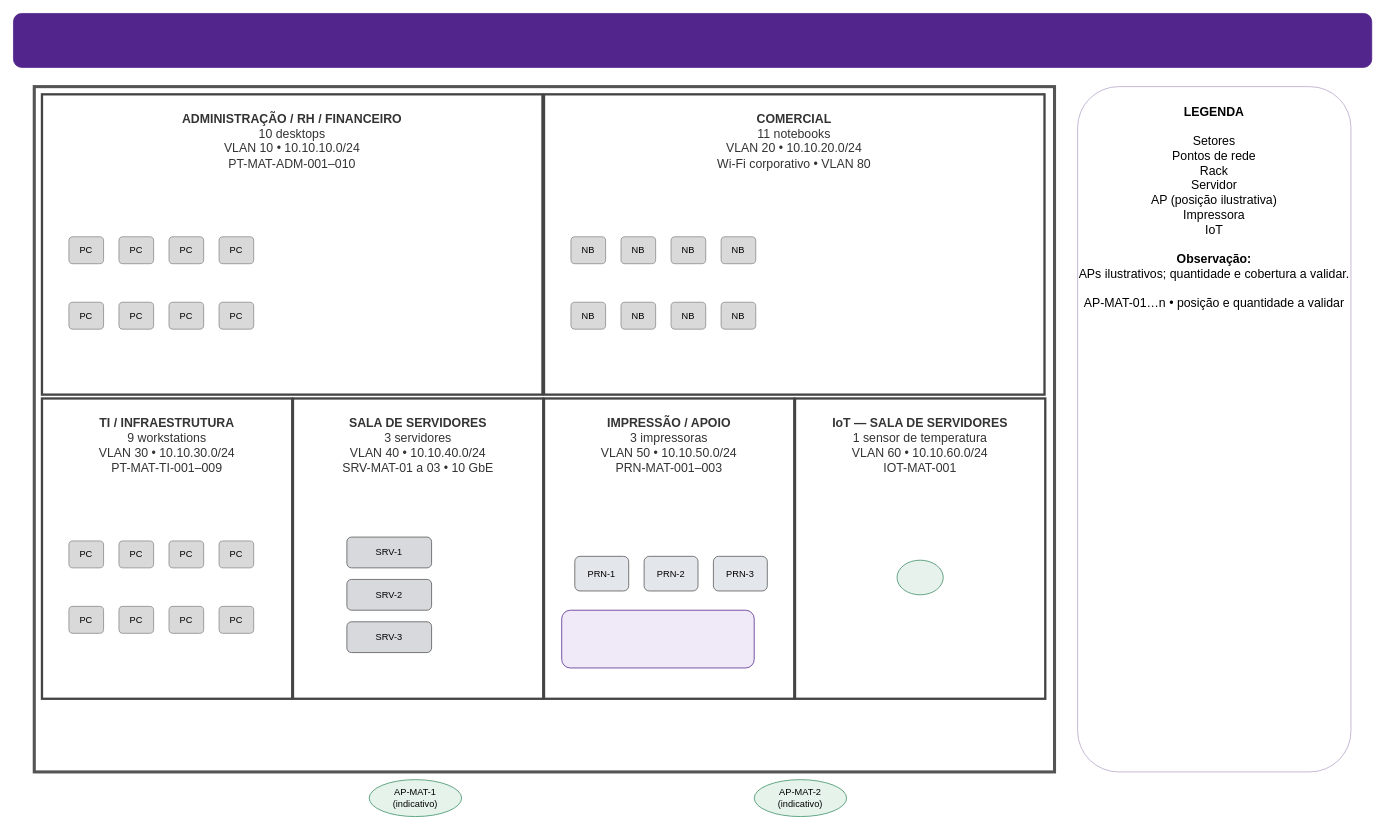
This 1385x830 diagram has some shape labels left out. The shapes that lost their labels are listed below. From the top down, each one's centre as x and y in pixels, then its label:
(692,40): ETAPA 1 — PLANTA DE REDE | MATRIZ
(919,577): IOT
(657,638): RACK-MAT-01 local exato a confirmar
